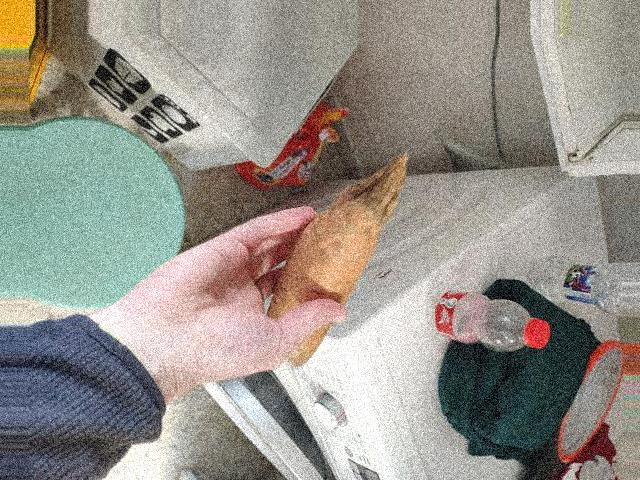sweet_potato: (261, 213, 375, 343)
